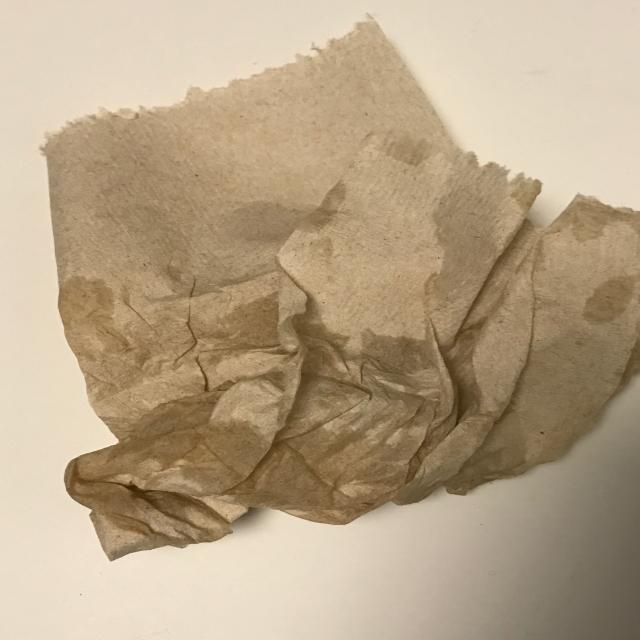trash: (39, 11, 640, 563)
